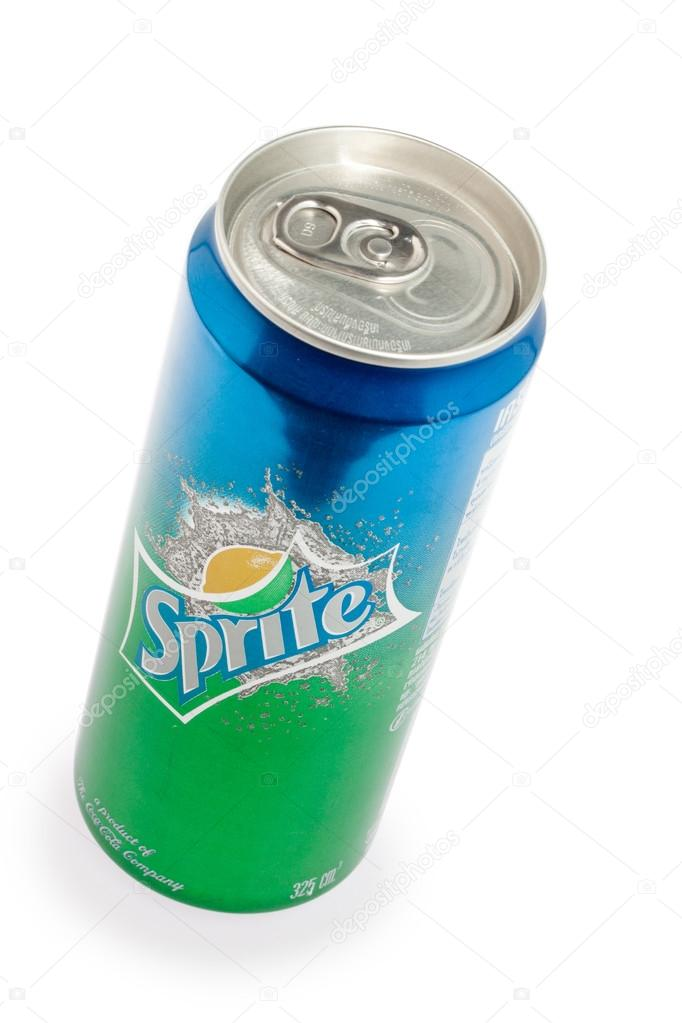sprite: (137, 565, 367, 694), (137, 565, 367, 683)
